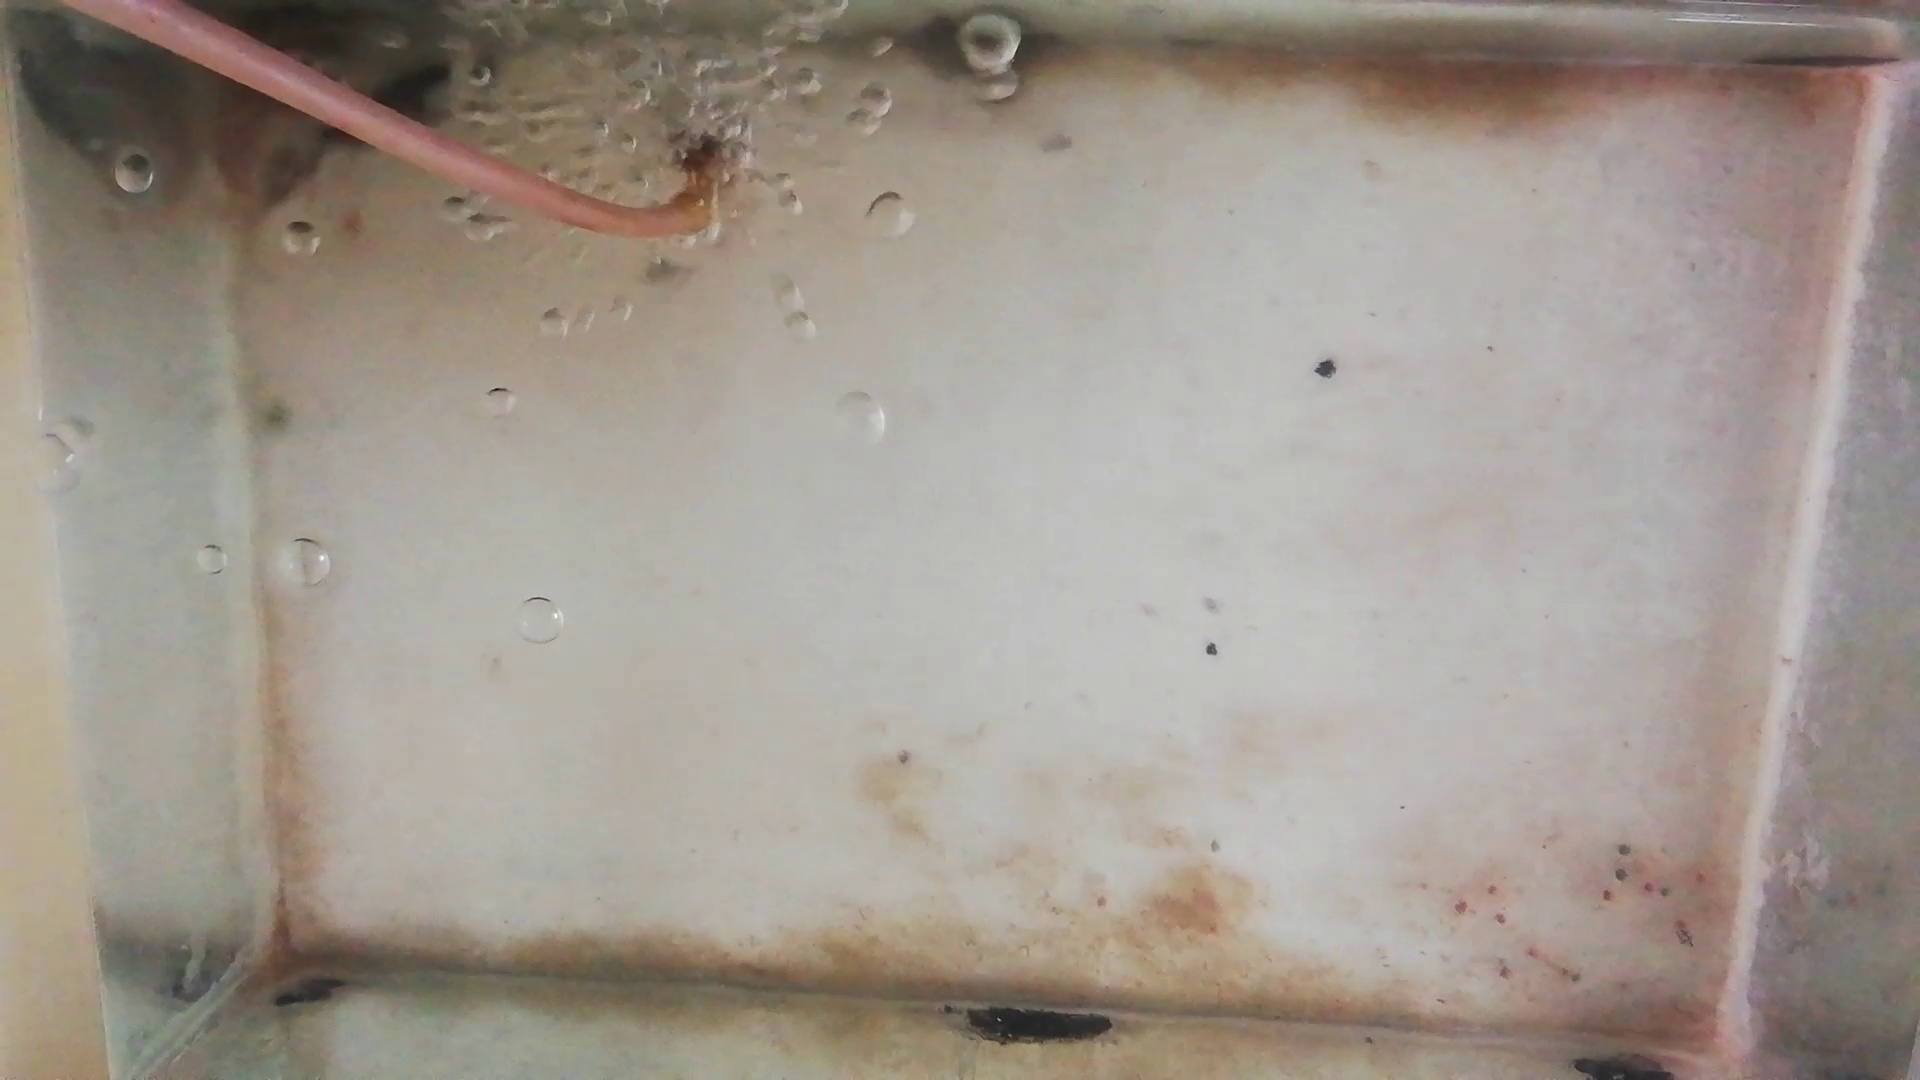fish: (258, 63, 462, 211), (208, 75, 280, 179)
